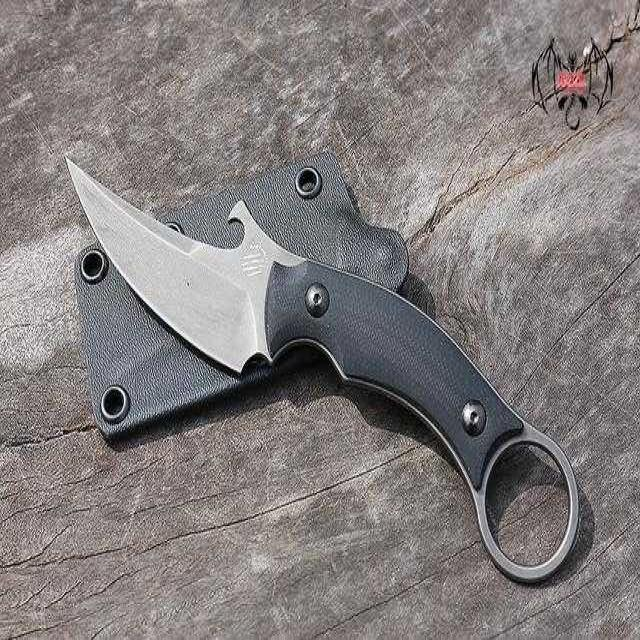Knife: (62, 145, 588, 591)
